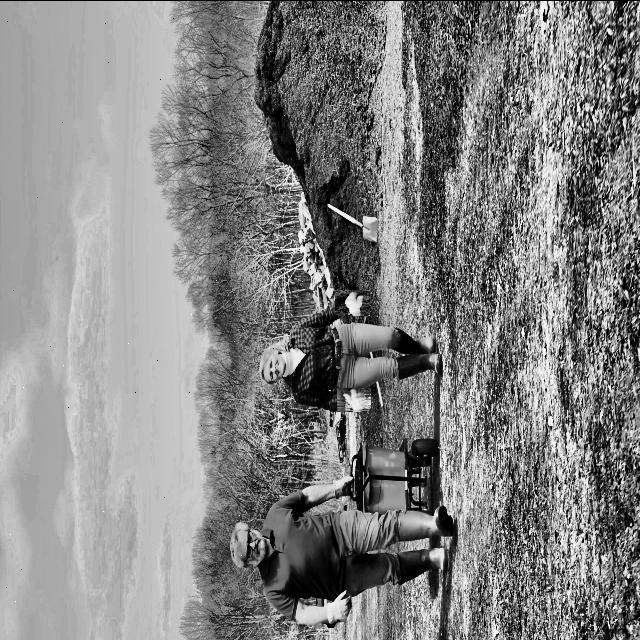gloved: (324, 581, 355, 634), (332, 456, 354, 506), (337, 286, 368, 318), (339, 384, 368, 414)
